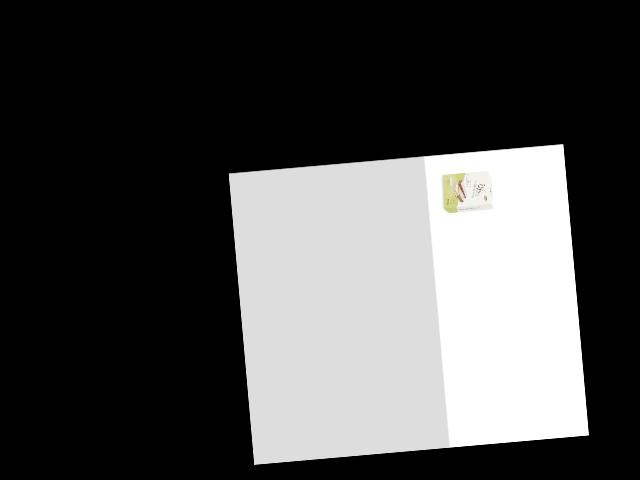chocolate: (439, 169, 494, 216)
